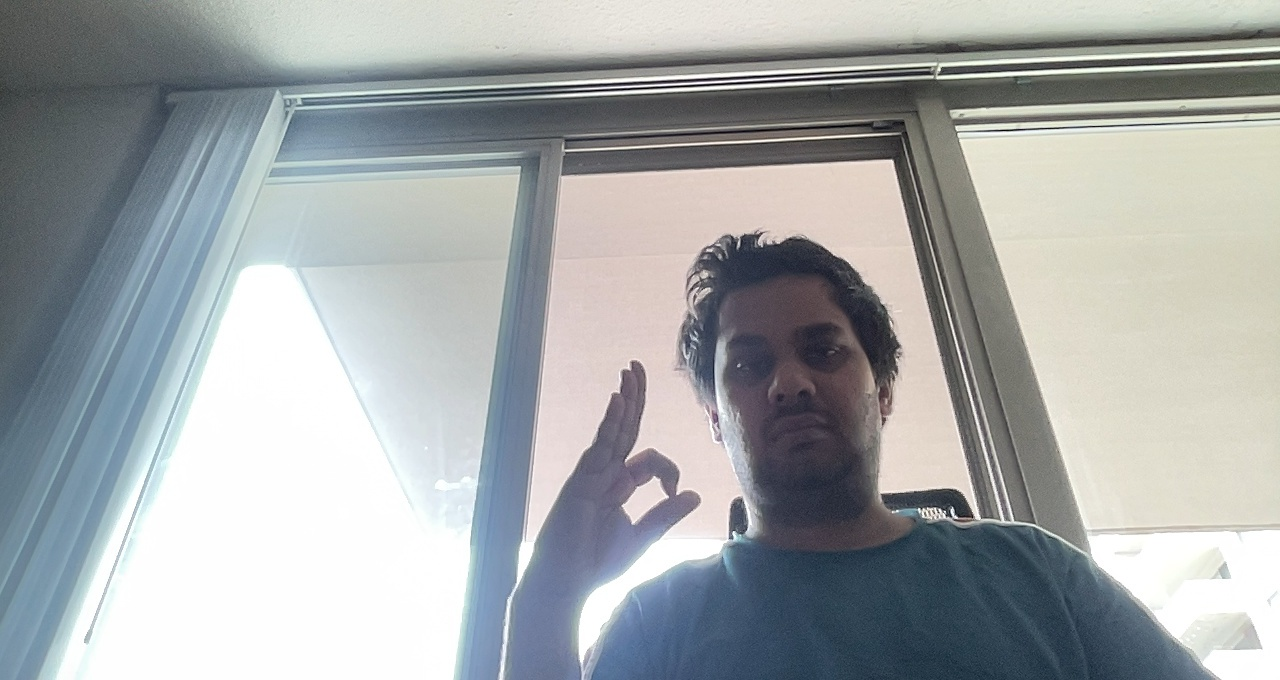ok: (539, 357, 708, 598)
